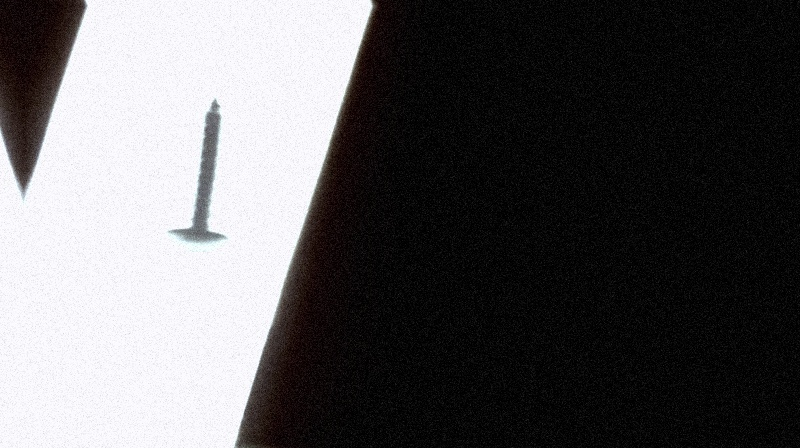S003: (162, 96, 234, 256)
